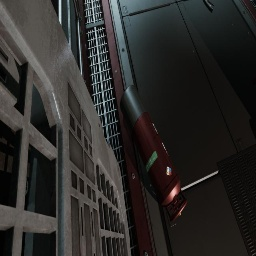FirstAidBox ,: (252, 74, 256, 88)
NitrogenTank ,: (120, 85, 187, 222)
